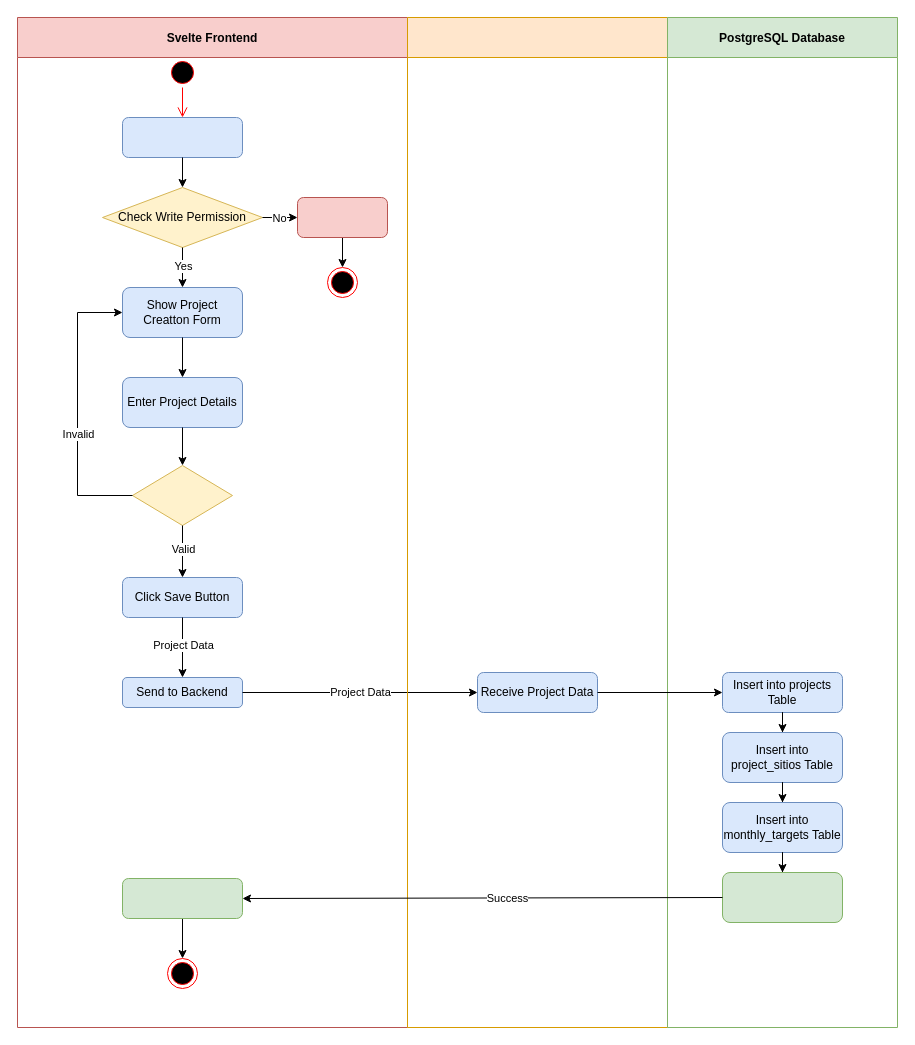
Some shapes in this 915 by 1045 pixel diagram are drawn without their labels. Here are the shapes that lost their labels. From the top down, the centre of each, then its label:
At pixel 182 137: "Navigate to Create Project Page".
At pixel 342 217: "Show Access Denied Message".
At pixel 182 495: "Validate Entries".
At pixel 537 522: "SvelteKit Backend".
At pixel 182 898: "Show Success Message".
At pixel 782 897: "Return Success & Project ID".
